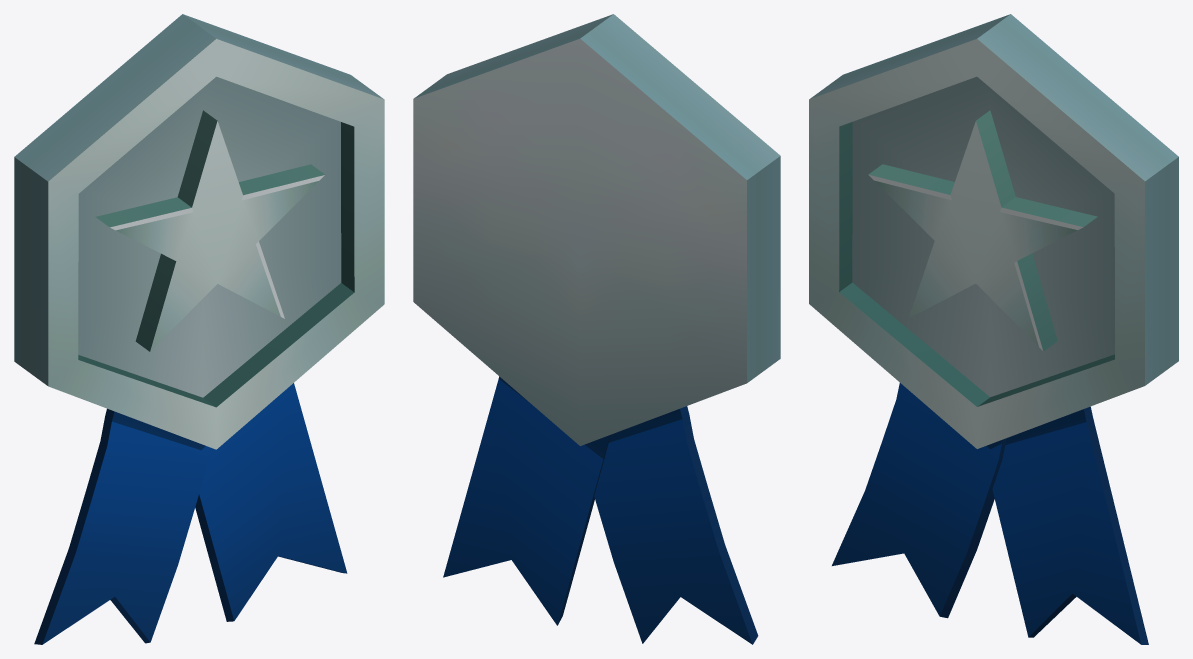
Rendered from toprunSilver.glb.
3 views of the same model, side by side, from view 1: azimuth 30°, elevation 25°; view 2: azimuth 150°, elevation 25°; view 3: azimuth 330°, elevation 25° (orthographic).
Parts seen in each view (by area): view 1: toprunSilver; view 2: toprunSilver; view 3: toprunSilver.
Boxes of the visible parts, x1,y1,x2,y2 form: toprunSilver: (14, 14, 384, 644); toprunSilver: (413, 14, 780, 644); toprunSilver: (809, 14, 1178, 644).
Bounding box in the file's own units: 5.51 × 9.52 × 0.9933.
Materials: 1 (1 with a texture image).
